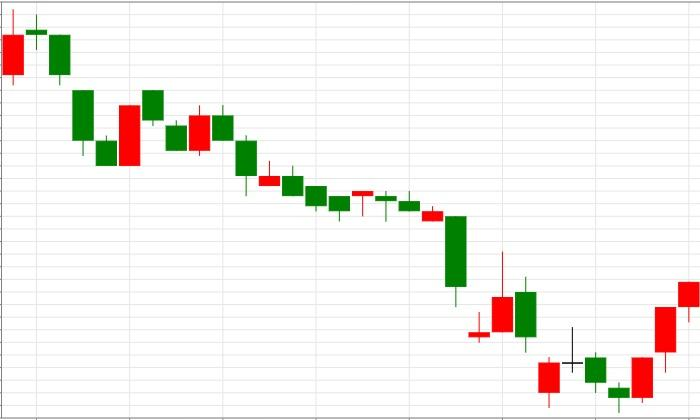bullish_engulfing_rise: (26, 14, 141, 166)
morning_star_rise: (375, 191, 514, 342)
three_white_soldiers_rise: (561, 282, 699, 414)
